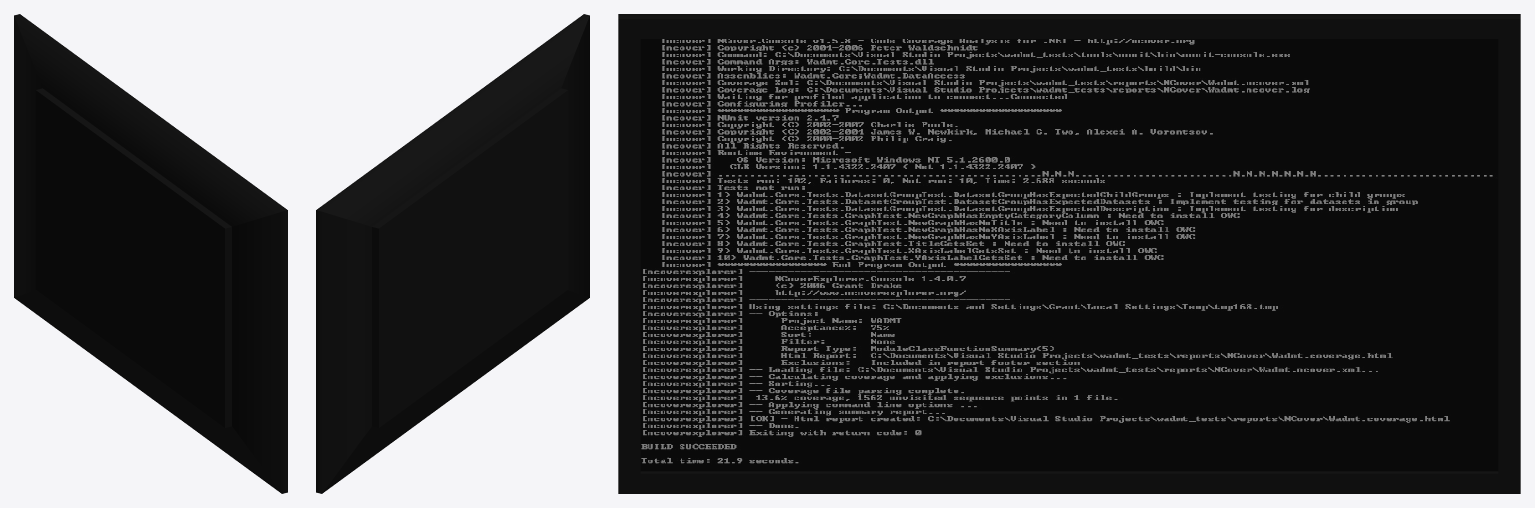
File: komputer_gora.FBX
3 views of the same model, side by side, from view 1: azimuth 30°, elevation 25°; view 2: azimuth 150°, elevation 25°; view 3: azimuth 270°, elevation 25° (orthographic). The views are drawn at different scales.
Parts seen in each view (by area): view 1: ekran; view 2: ekran; view 3: ekran.
Part boxes in pixels (x1,y1,x2,y2): ekran: (14,14,287,493); ekran: (316,14,589,493); ekran: (618,14,1520,493).
Bounding box in the file's own units: 0.4965 × 5.67 × 9.76.
Materials: 2 (1 with a texture image).
